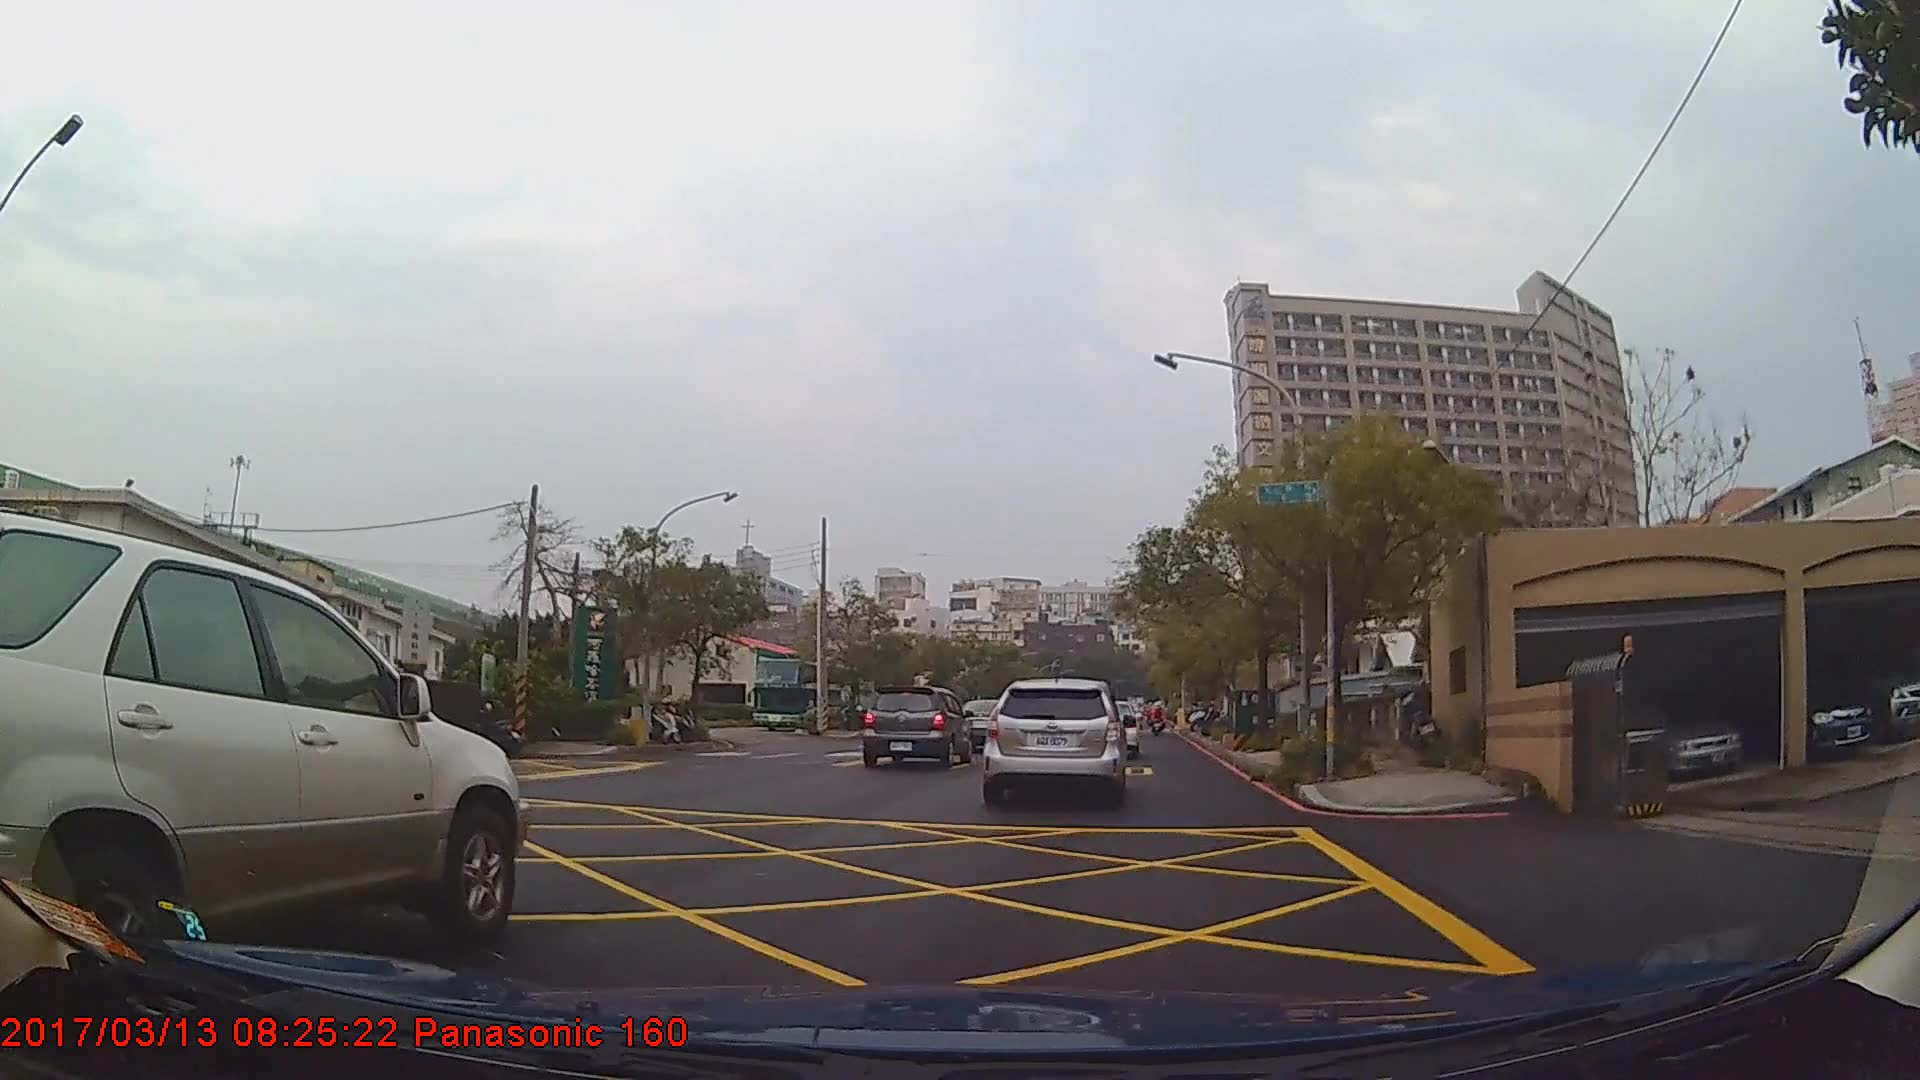vehicle: (0, 510, 529, 986), (978, 673, 1126, 800), (1617, 694, 1746, 775), (861, 682, 975, 765), (753, 661, 862, 738)
